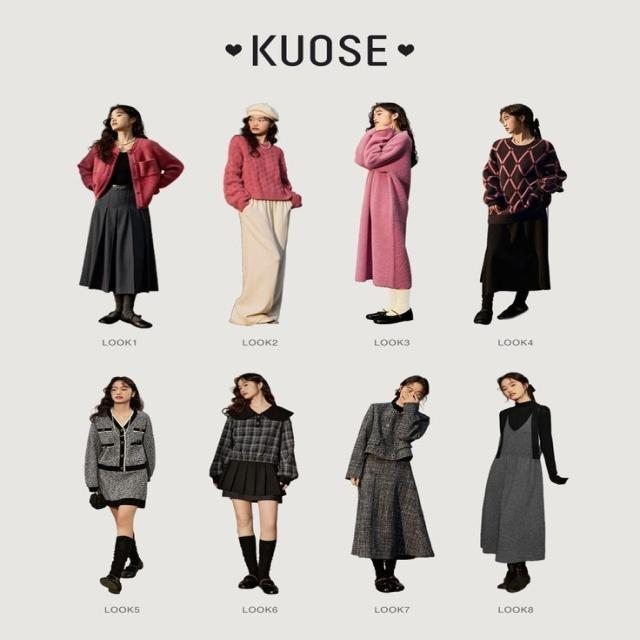person: (76, 104, 184, 328), (473, 103, 567, 324), (208, 372, 298, 594), (479, 372, 569, 592), (344, 375, 434, 593), (222, 102, 302, 326), (84, 376, 156, 594), (352, 102, 418, 324)
